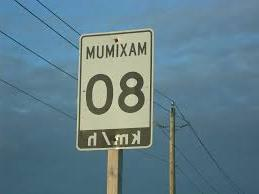speed limit sign: (77, 28, 154, 150)
